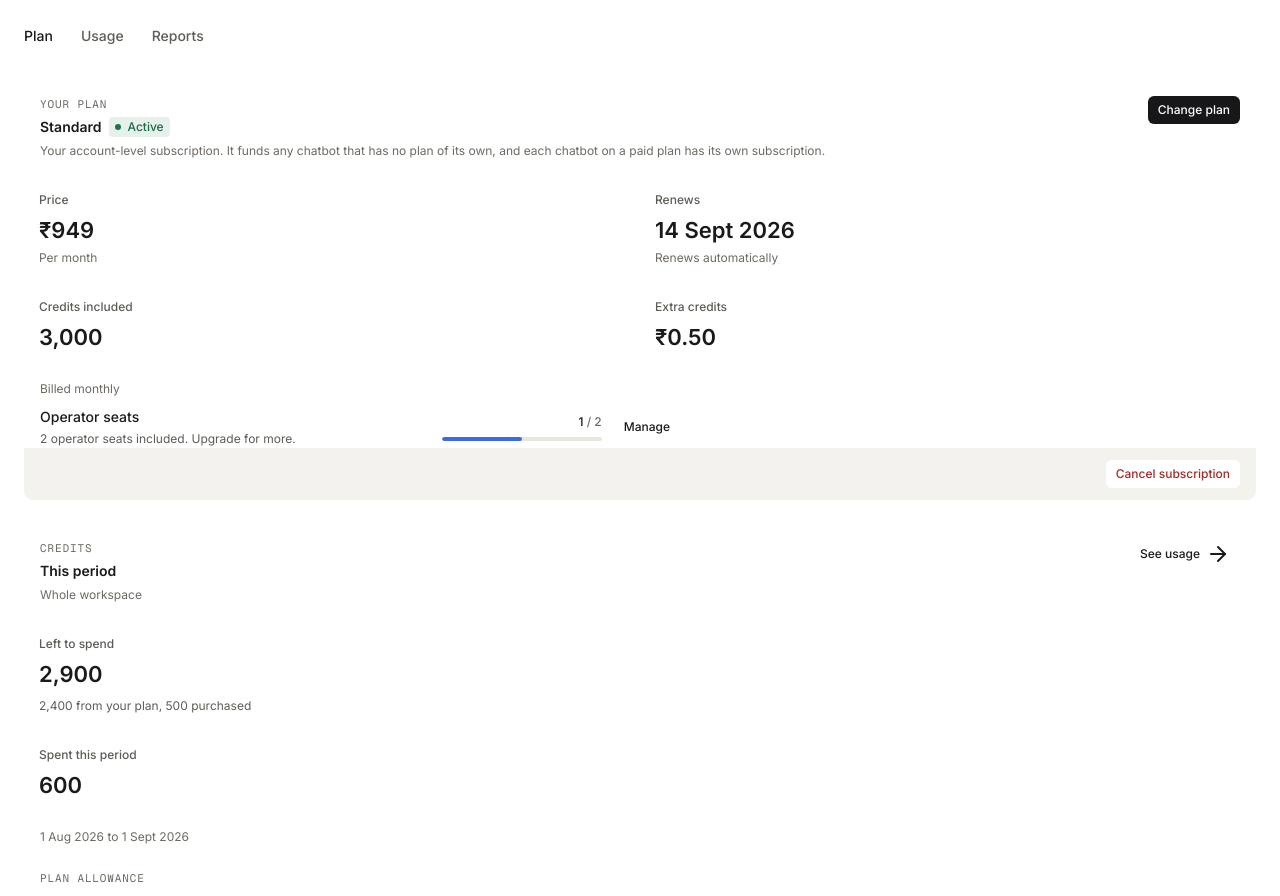
cancelling › is a confirm dialog that states the real consequence, with the real date
Expected: the text "Standard" is shown, [40,118,102,135]
Click the button "Cancel subscription": (1173, 474) [1106,460,1240,488]
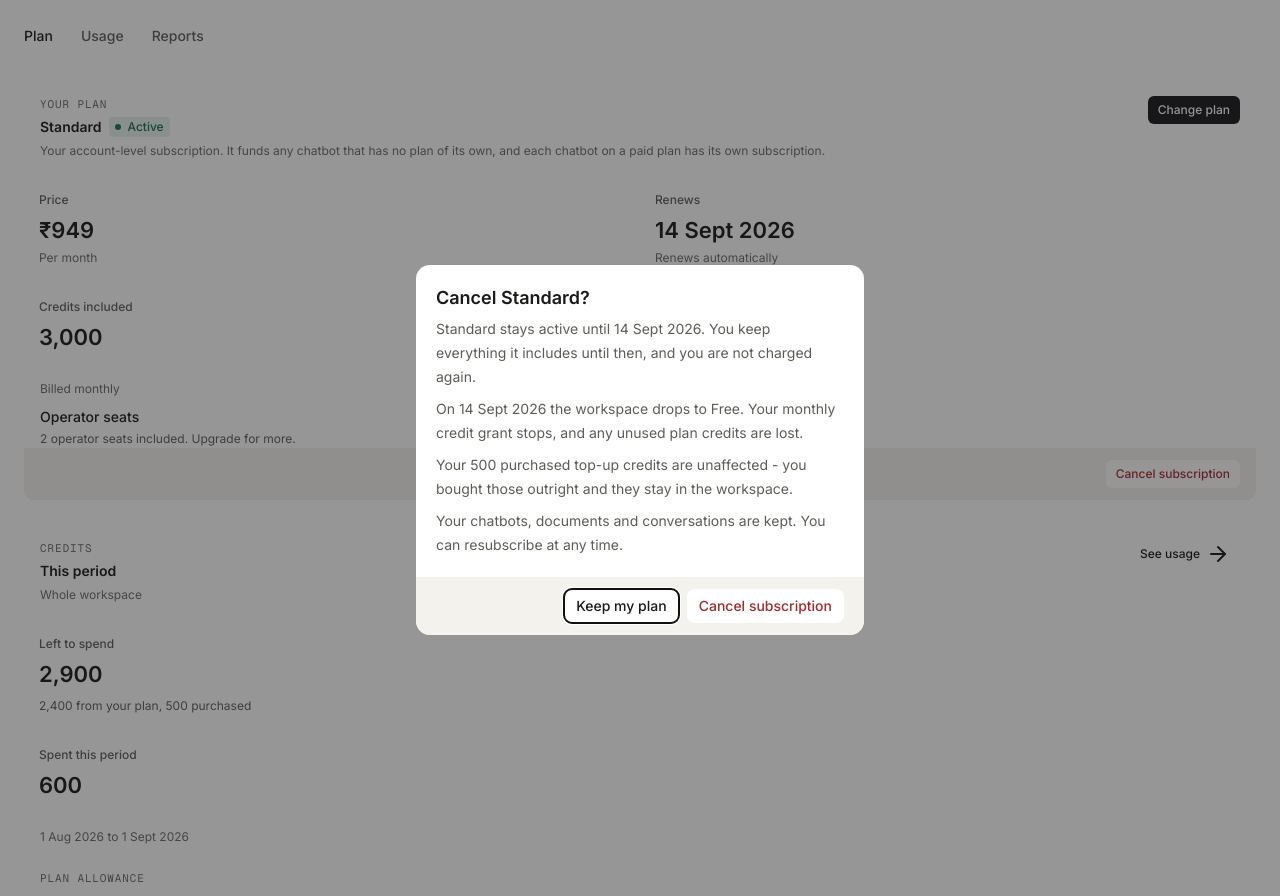
Now the heading "Cancel Standard?" is shown, box [436,287,590,308]
Now the dialog shows "credit grant stops", box [436,400,835,441]
Now the dialog shows "500 purchased top-up credits", box [436,456,807,497]
